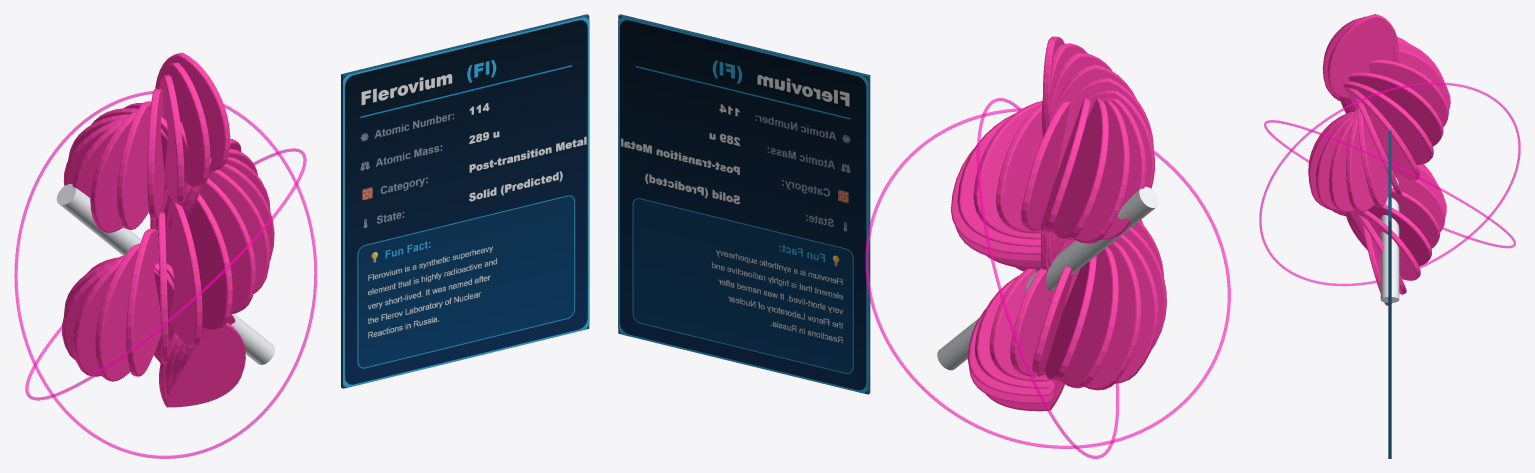
File: flerovium.glb
The picture shows the model from 3 angles, left to right: view 1: azimuth 30°, elevation 25°; view 2: azimuth 150°, elevation 25°; view 3: azimuth 270°, elevation 25°; orthographic projection. The views are drawn at different scales.
Visible parts, largest first — view 1: Mesh_38, Mesh_1, Mesh_13, Mesh_16, Mesh_15, Mesh_37.001, Mesh_12, Mesh_17, Mesh_32, Mesh_35, Mesh_0, Mesh_31 (+14 smaller); view 2: Mesh_39, Mesh_28, Mesh_9, Mesh_37, Mesh_10, Mesh_0, Mesh_29, Mesh_25, Mesh_24, Mesh_26, Mesh_8, Mesh_6 (+21 smaller); view 3: Mesh_36, Mesh_24, Mesh_23, Mesh_37.001, Mesh_22, Mesh_25, Mesh_20, Mesh_19, Mesh_4, Mesh_0, Mesh_18, Mesh_40 (+13 smaller).
Part boxes in pixels (bbox=[...]): Mesh_38: bbox=[343, 17, 589, 387]; Mesh_1: bbox=[159, 322, 245, 407]; Mesh_13: bbox=[126, 228, 160, 376]; Mesh_16: bbox=[187, 194, 232, 330]; Mesh_15: bbox=[166, 195, 202, 347]; Mesh_37.001: bbox=[14, 91, 317, 458]; Mesh_12: bbox=[95, 243, 140, 381]; Mesh_17: bbox=[199, 178, 255, 314]; Mesh_32: bbox=[117, 101, 151, 229]; Mesh_35: bbox=[158, 62, 210, 187]; Mesh_0: bbox=[56, 184, 274, 364]; Mesh_31: bbox=[90, 111, 136, 232]; Mesh_39: bbox=[618, 17, 868, 393]; Mesh_28: bbox=[1051, 98, 1108, 240]; Mesh_9: bbox=[1060, 247, 1118, 388]; Mesh_37: bbox=[865, 108, 1230, 448]; Mesh_10: bbox=[1084, 242, 1141, 390]; Mesh_0: bbox=[937, 186, 1158, 370]; Mesh_29: bbox=[1073, 100, 1129, 243]; Mesh_25: bbox=[996, 103, 1042, 233]; Mesh_24: bbox=[973, 101, 1042, 239]; Mesh_26: bbox=[1021, 102, 1069, 230]; Mesh_8: bbox=[1044, 255, 1096, 381]; Mesh_6: bbox=[1010, 267, 1049, 376]; Mesh_36: bbox=[1327, 14, 1398, 98]; Mesh_24: bbox=[1340, 72, 1443, 146]; Mesh_23: bbox=[1339, 81, 1433, 165]; Mesh_37.001: bbox=[1259, 82, 1520, 286]; Mesh_22: bbox=[1345, 88, 1419, 180]; Mesh_25: bbox=[1369, 60, 1448, 126]; Mesh_20: bbox=[1357, 105, 1388, 206]; Mesh_19: bbox=[1346, 111, 1374, 211]; Mesh_4: bbox=[1345, 204, 1431, 266]; Mesh_0: bbox=[1380, 177, 1399, 302]; Mesh_18: bbox=[1329, 111, 1356, 212]; Mesh_40: bbox=[1388, 130, 1391, 458].
Bounding box in the file's own units: 2.71 × 1.77 × 1.44.
Materials: 6 (2 with a texture image).
